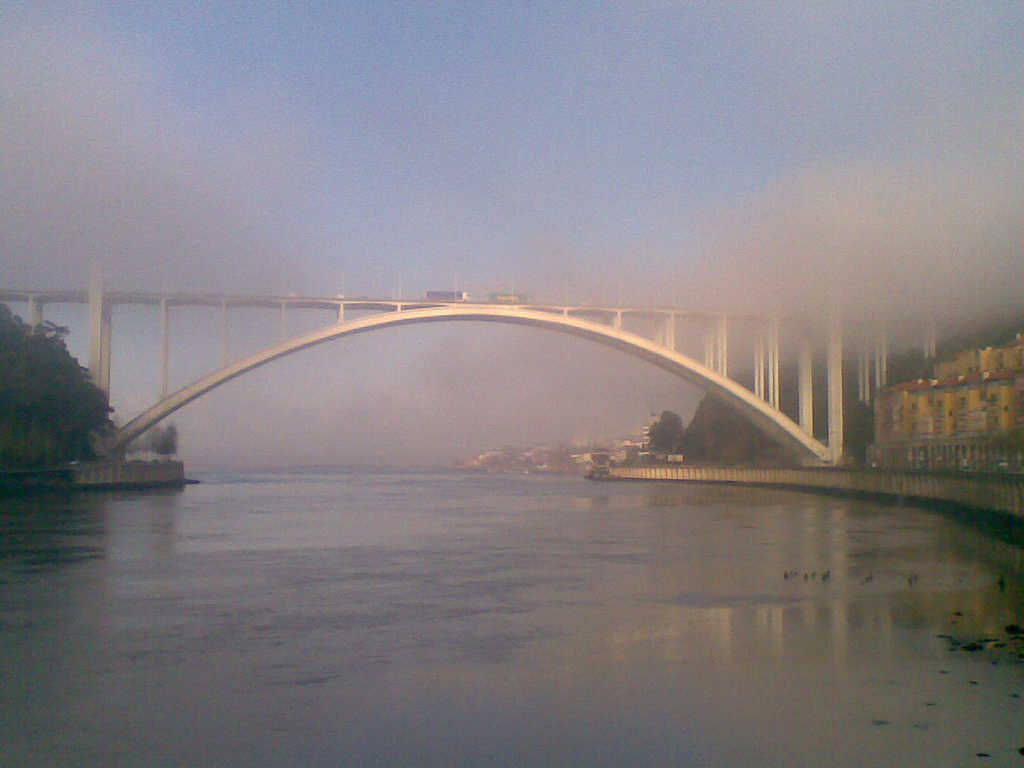arrabida: (0, 255, 999, 468)
